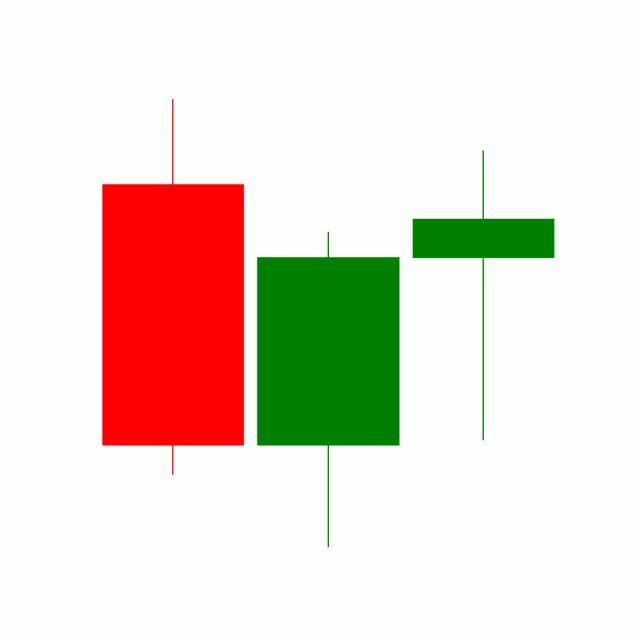Spinning Top: (406, 147, 562, 444)
